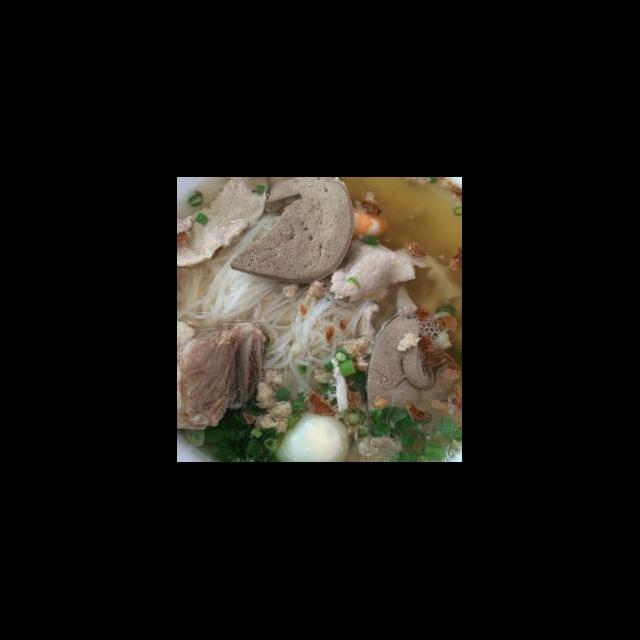banh hu tieu: (254, 278, 386, 412), (178, 212, 288, 334)
gan: (225, 178, 358, 288)
hu tieu: (178, 195, 462, 462)
thit bam: (310, 332, 376, 390), (250, 366, 296, 438), (278, 278, 328, 306)
thit heo: (328, 236, 462, 318), (178, 178, 274, 270), (178, 324, 252, 434)
tom: (346, 202, 390, 245)
trung: (272, 408, 352, 462)
